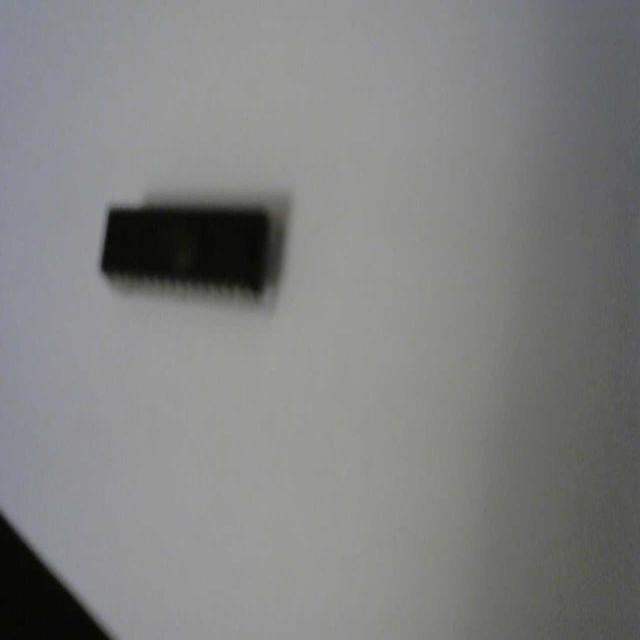atmega: (97, 188, 289, 314)
